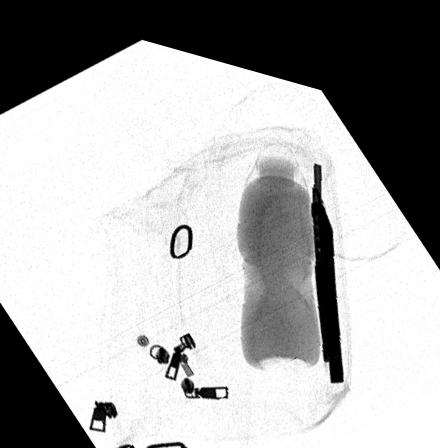Knife: (310, 144, 344, 364)
